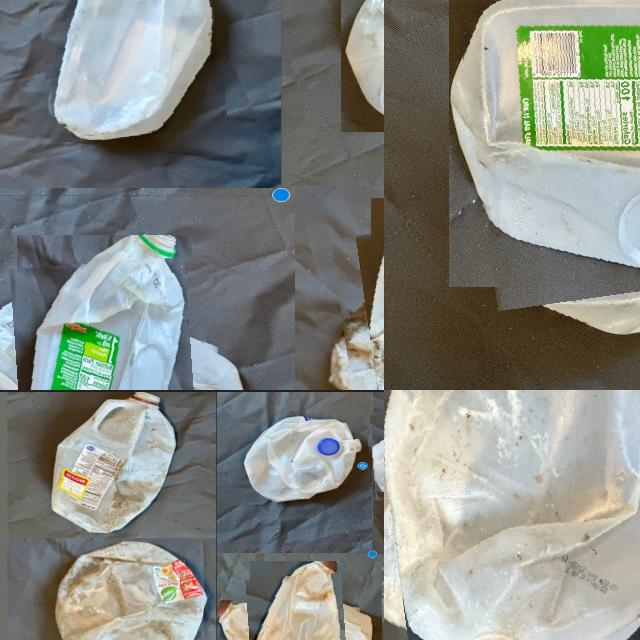milk-jug: (384, 390, 640, 640), (461, 0, 640, 323), (0, 258, 222, 390), (37, 0, 223, 139), (46, 402, 175, 530), (48, 539, 204, 640), (242, 415, 360, 507), (232, 574, 363, 640)
